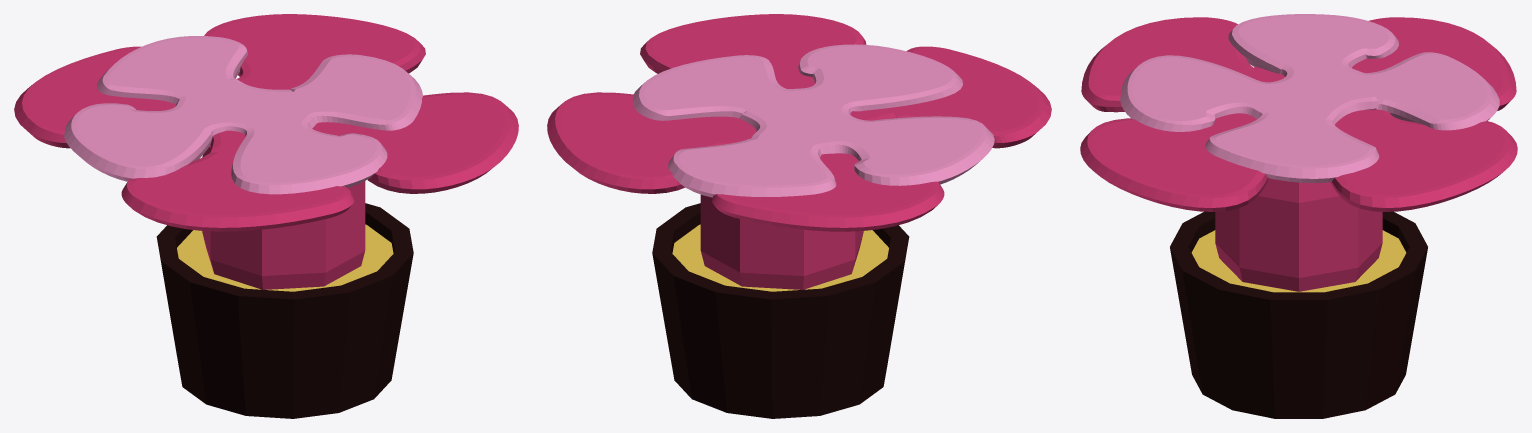
File: plant.glb
3 renders of one model, left to right at view 1: azimuth 30°, elevation 25°; view 2: azimuth 150°, elevation 25°; view 3: azimuth 270°, elevation 25°, orthographic.
Visible parts, largest first — view 1: BézierCurve.001, BézierCurve.002, Cylinder.001, Cylinder; view 2: BézierCurve.001, BézierCurve.002, Cylinder.001, Cylinder; view 3: BézierCurve.001, BézierCurve.002, Cylinder.001, Cylinder.
Boxes of the visible parts, x1=… form: BézierCurve.001: x1=14, y1=14, x2=518, y2=231; BézierCurve.002: x1=64, y1=36, x2=422, y2=194; Cylinder.001: x1=156, y1=203, x2=413, y2=418; Cylinder: x1=202, y1=147, x2=365, y2=289; BézierCurve.001: x1=547, y1=14, x2=1051, y2=231; BézierCurve.002: x1=632, y1=44, x2=994, y2=197; Cylinder.001: x1=652, y1=203, x2=909, y2=418; Cylinder: x1=700, y1=194, x2=863, y2=289; BézierCurve.001: x1=1080, y1=17, x2=1517, y2=211; BézierCurve.002: x1=1120, y1=14, x2=1499, y2=182; Cylinder.001: x1=1170, y1=211, x2=1427, y2=418; Cylinder: x1=1215, y1=178, x2=1382, y2=291.
Size of the model in its own units: 0.6807 by 0.4578 by 0.6738.
